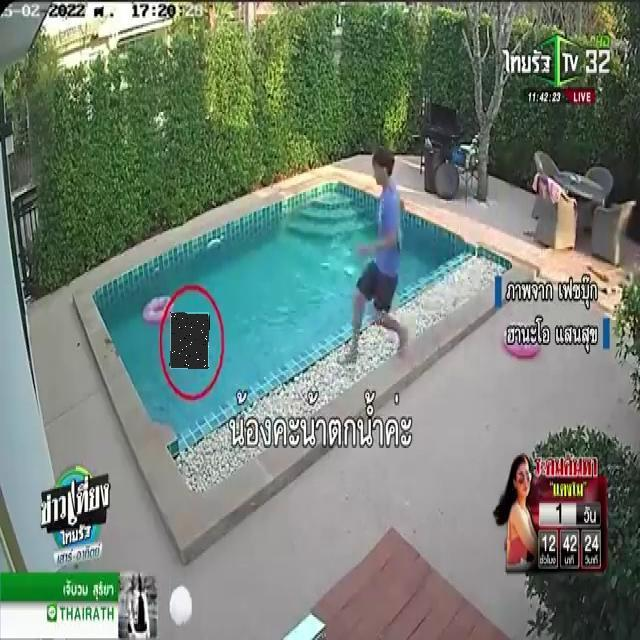Out of Water: (170, 312, 209, 369)
